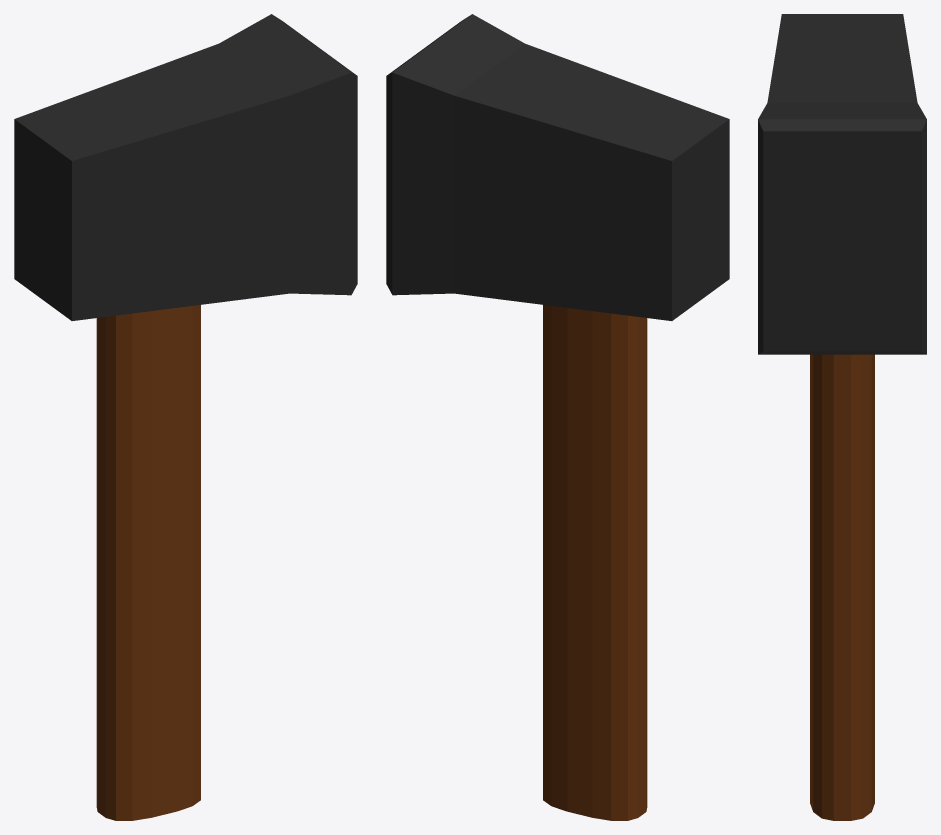
Rendered from Hammer.fbx.
3 renders of one model, left to right at view 1: azimuth 30°, elevation 25°; view 2: azimuth 150°, elevation 25°; view 3: azimuth 270°, elevation 25°, orthographic. The views are drawn at different scales.
Visible parts, largest first — view 1: HammerHead, Handle; view 2: HammerHead, Handle; view 3: HammerHead, Handle.
Part boxes in pixels (left/top/right/bottom): HammerHead: left=14, top=14, right=357, bottom=320; Handle: left=96, top=305, right=200, bottom=820; HammerHead: left=386, top=14, right=729, bottom=320; Handle: left=543, top=305, right=647, bottom=820; HammerHead: left=758, top=14, right=926, bottom=354; Handle: left=810, top=354, right=874, bottom=820.
Size of the model in its own units: 262 by 652 by 131.
